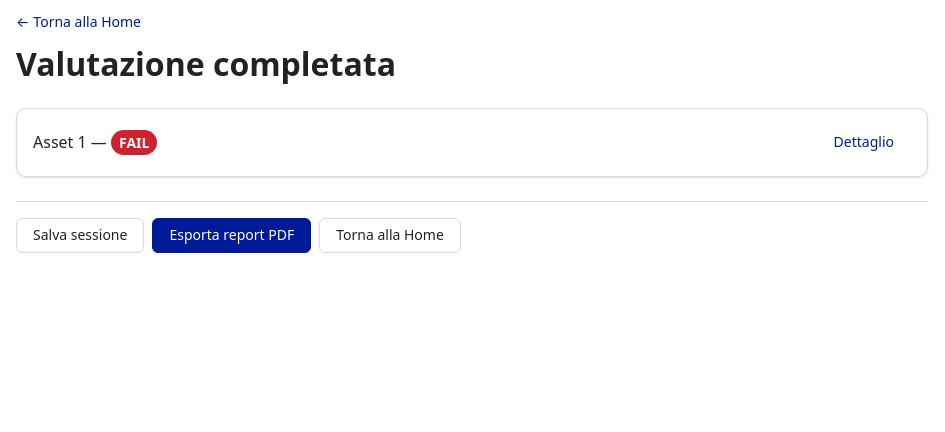
Scenario: ResultPage › naviga dai risultati all'asset e al percorso logico del requisito
Expected: the element named "Risultati per asset" shows "Asset 1 — FAIL", [16, 108, 928, 177]
Click the button "Dettaglio".
click(864, 142)  # box [817, 125, 911, 160]
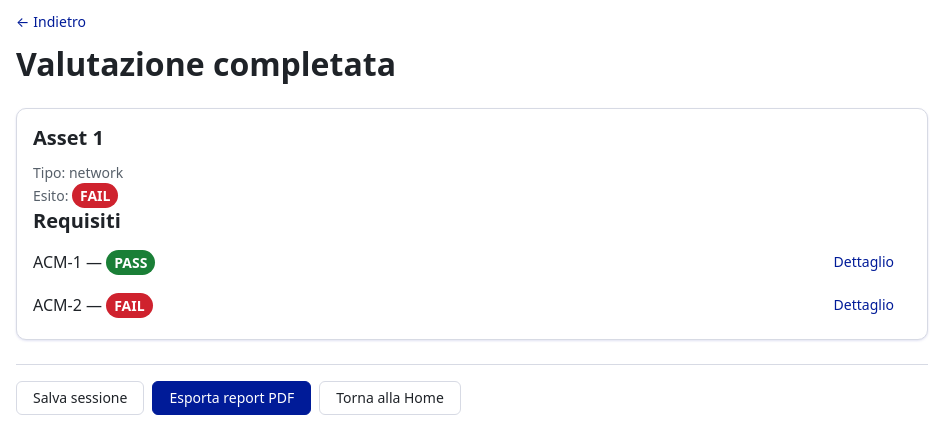
Result: the element named "Riepilogo asset" shows "Tipo: network" at [16, 108, 928, 340]
Result: the element named "Riepilogo asset" shows "ACM-1 — PASS" at [16, 108, 928, 340]
Result: the element named "Riepilogo asset" shows "ACM-2 — FAIL" at [16, 108, 928, 340]
Click the button "Dettaglio" in the row of "ACM-1".
click(864, 262)  # box [817, 245, 911, 280]
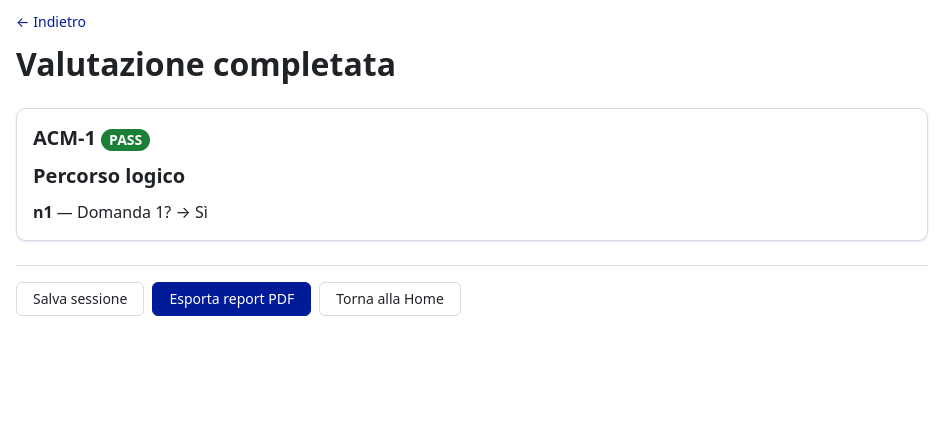
Result: the element named "Dettaglio requisito con esito" shows "Domanda 1? → Sì" at [16, 108, 928, 240]
